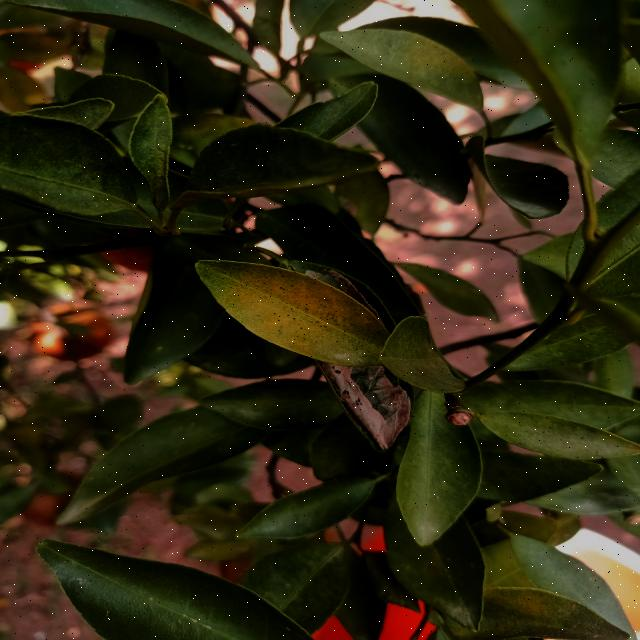blackspot: (194, 261, 390, 363), (332, 29, 496, 107), (492, 414, 637, 464)
